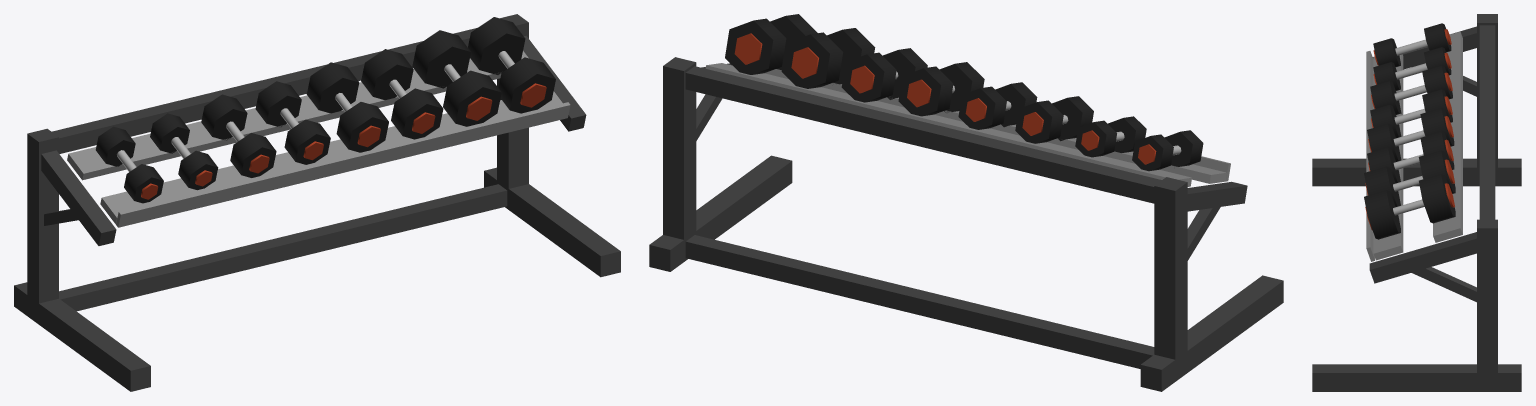
The model's file is Dumbbell_Rack_Commercial.fbx.
3 views of the same model, side by side, from view 1: azimuth 30°, elevation 25°; view 2: azimuth 150°, elevation 25°; view 3: azimuth 270°, elevation 25° (orthographic). The views are drawn at different scales.
Parts seen in each view (by area): view 1: Dumbbell_Rack_Commercial; view 2: Dumbbell_Rack_Commercial; view 3: Dumbbell_Rack_Commercial.
Boxes of the visible parts, x1,y1,x2,y2 form: Dumbbell_Rack_Commercial: (14, 14, 620, 391); Dumbbell_Rack_Commercial: (649, 14, 1283, 391); Dumbbell_Rack_Commercial: (1312, 14, 1521, 391).
Size of the model in its own units: 194 by 81.84 by 80.
